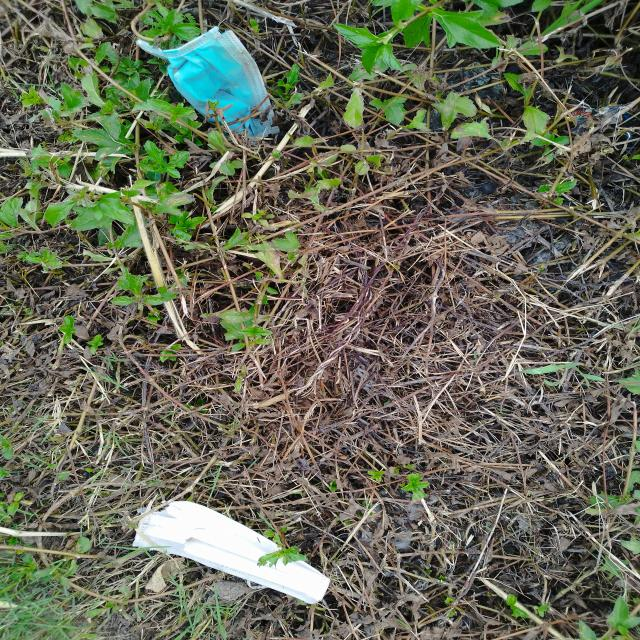mask: (134, 502, 330, 604), (134, 27, 288, 154)
